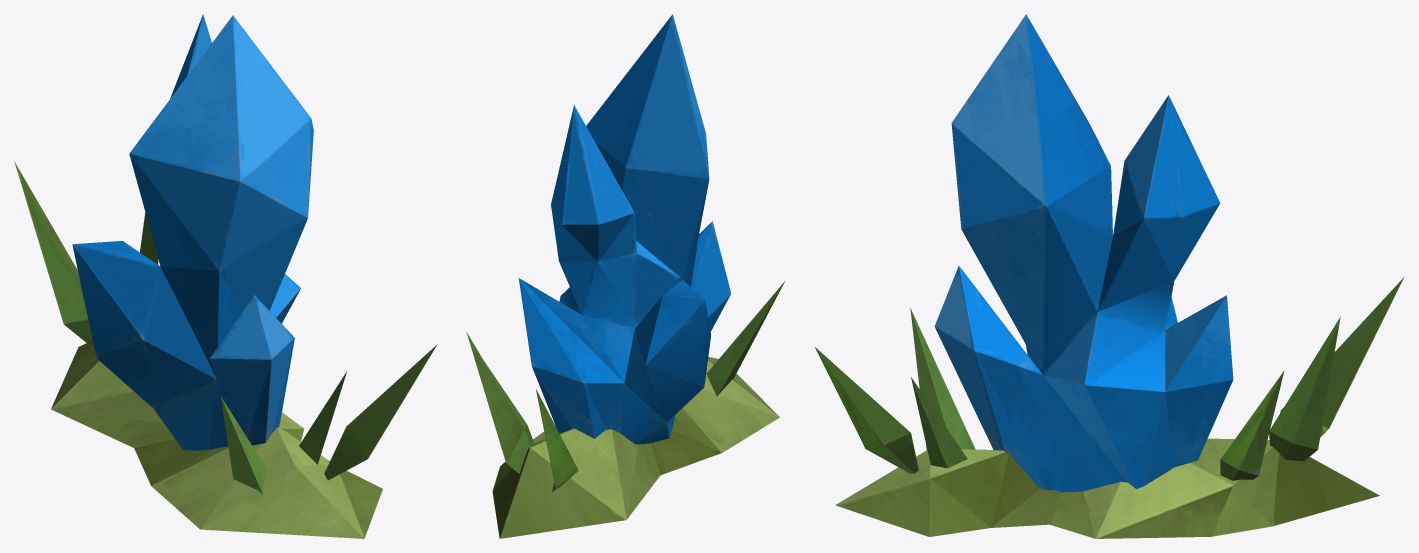
Rendered from crystal_deco.fbx.
3 views of the same model, side by side, from view 1: azimuth 30°, elevation 25°; view 2: azimuth 150°, elevation 25°; view 3: azimuth 270°, elevation 25° (orthographic). The views are drawn at different scales.
Parts seen in each view (by area): view 1: big_crystal_deco, crystal_rock_base, grass_blade13, grass_blade10, grass_blade12, grass_blade11; view 2: big_crystal_deco, crystal_rock_base, grass_blade9, grass_blade12, grass_blade13; view 3: big_crystal_deco, crystal_rock_base, grass_blade9, grass_blade10, grass_blade13, grass_blade8, grass_blade12, grass_blade11.
Boxes of the visible parts, x1,y1,x2,y2 form: big_crystal_deco: [72, 14, 313, 450]; crystal_rock_base: [51, 343, 382, 538]; grass_blade13: [14, 161, 94, 348]; grass_blade10: [324, 344, 437, 480]; grass_blade12: [220, 396, 267, 494]; grass_blade11: [299, 371, 346, 464]; big_crystal_deco: [518, 14, 731, 444]; crystal_rock_base: [492, 357, 779, 538]; grass_blade9: [466, 332, 530, 473]; grass_blade12: [706, 281, 784, 396]; grass_blade13: [536, 389, 578, 492]; big_crystal_deco: [934, 14, 1233, 492]; crystal_rock_base: [835, 438, 1379, 538]; grass_blade9: [1269, 317, 1340, 461]; grass_blade10: [814, 346, 918, 473]; grass_blade13: [1280, 277, 1404, 437]; grass_blade8: [1220, 371, 1284, 480]; grass_blade12: [910, 308, 975, 449]; grass_blade11: [911, 377, 967, 468].
Size of the model in its own units: 1.04 by 2.29 by 2.56.
